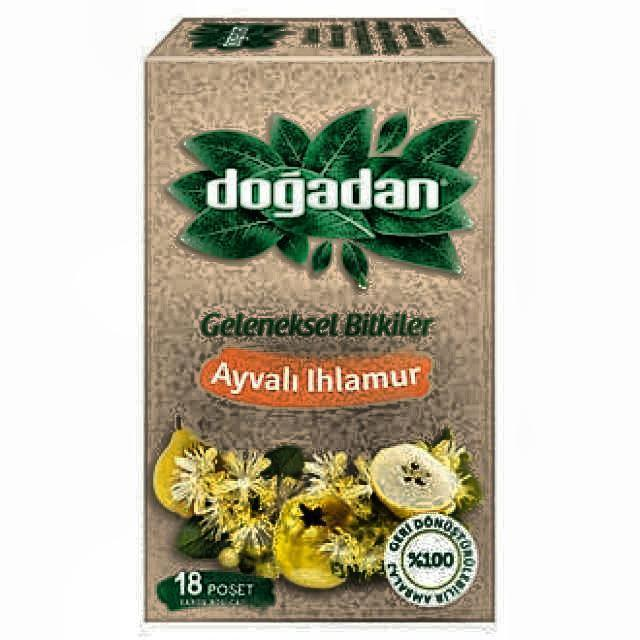cardboard: (143, 17, 495, 625)
